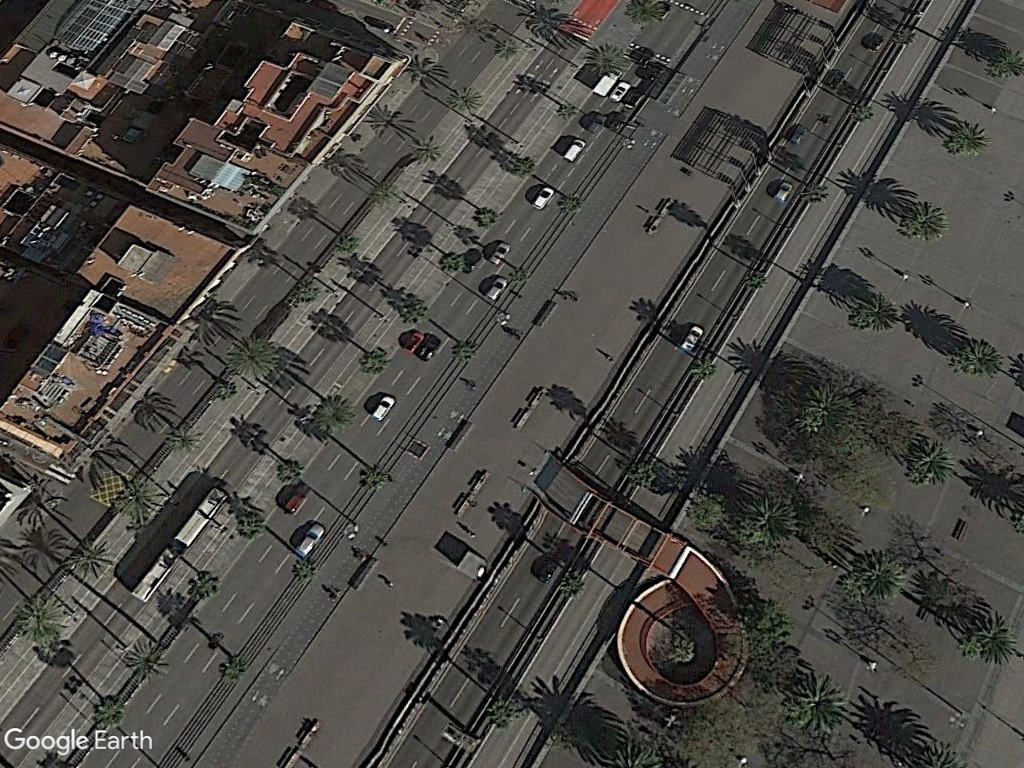car: (480, 273, 510, 304), (484, 238, 511, 270), (528, 182, 555, 212)
van: (560, 136, 588, 164)
